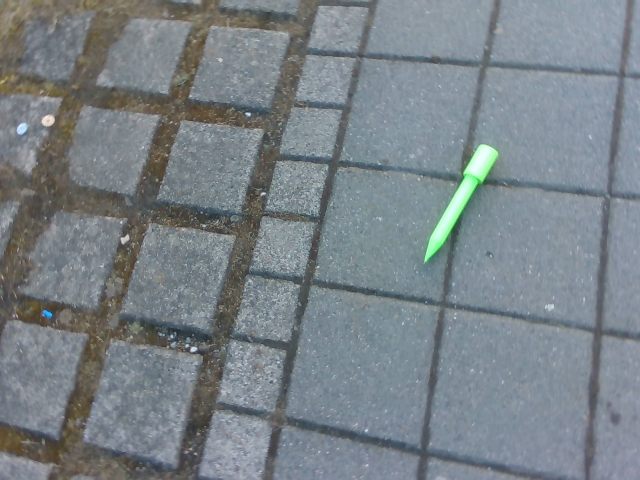Probe: (421, 140, 500, 270)
